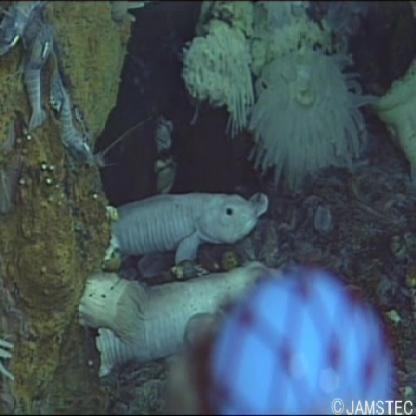Bio: (68, 187, 286, 380), (0, 1, 115, 176)
